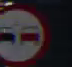No overtake: (0, 0, 53, 65)
